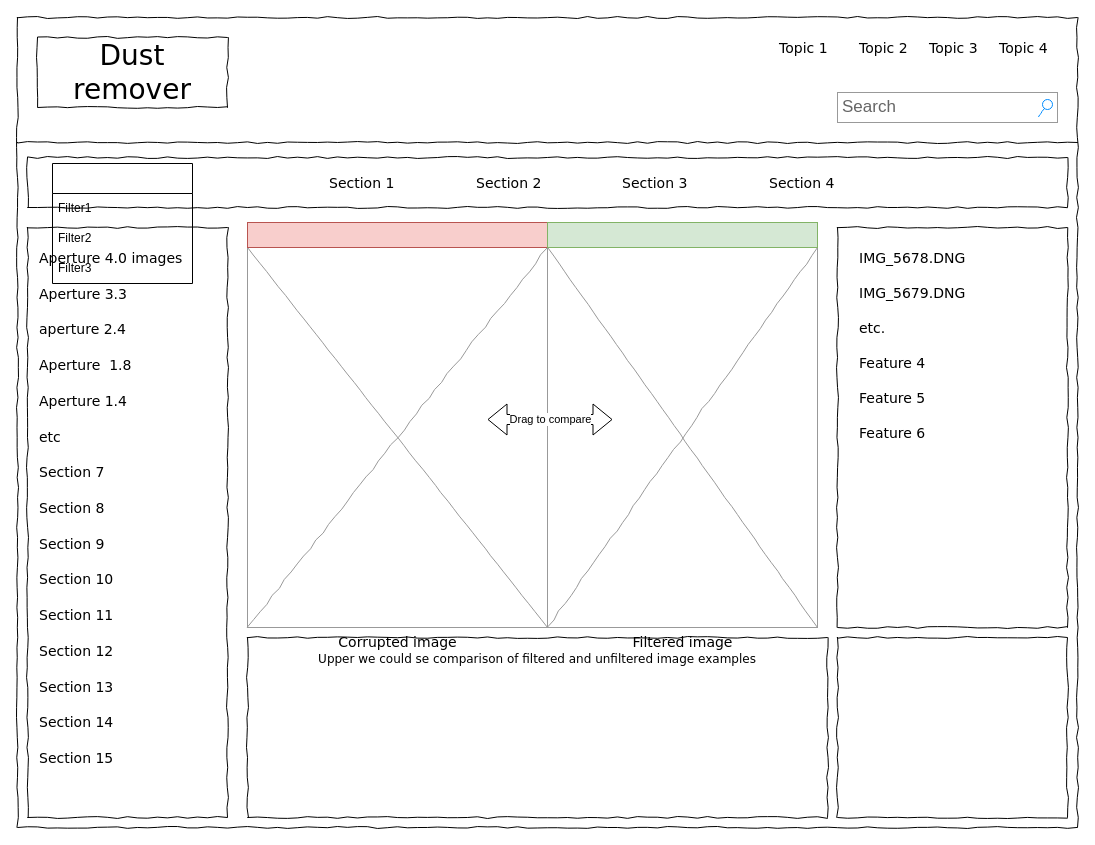
Some shapes in this 1095 by 845 pixel diagram are drawn without their labels. Each missing label, with the box of its shape:
External Links: (836, 636, 1068, 818)
Teached filter selection: (52, 162, 192, 284)
